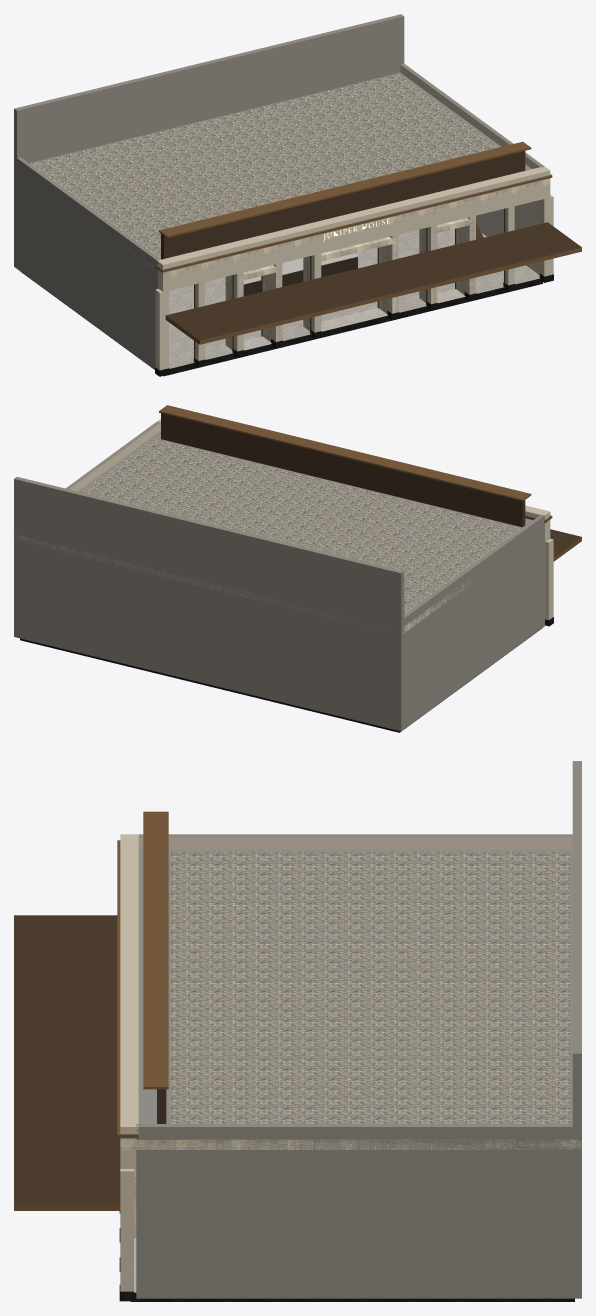
Rendered from juniper_house_LOD2.fbx.
3 views of the same model, one above another, from view 1: azimuth 30°, elevation 25°; view 2: azimuth 150°, elevation 25°; view 3: azimuth 270°, elevation 25° (orthographic). The views are drawn at different scales.
Parts seen in each view (by area): view 1: B02_LOD2_BUILDING_EXTERIOR_Stone, B02_LOD2_BUILDING_EXTERIOR_Roof, B02_LOD2_BUILDING_EXTERIOR_RearInterface, B02_LOD2_FACADE_DETAILS_Bronze, B02_LOD2_BUILDING_INTERIOR_GroundSlab, B02_LOD2_DISPLAY_OBJECTS_Bar; view 2: B02_LOD2_BUILDING_EXTERIOR_Stone, B02_LOD2_BUILDING_EXTERIOR_RearInterface, B02_LOD2_BUILDING_EXTERIOR_Roof, B02_LOD2_FACADE_DETAILS_Bronze, B02_LOD2_BUILDING_INTERIOR_GroundSlab; view 3: B02_LOD2_BUILDING_EXTERIOR_Roof, B02_LOD2_BUILDING_EXTERIOR_Stone, B02_LOD2_FACADE_DETAILS_Bronze, B02_LOD2_BUILDING_EXTERIOR_RearInterface, B02_LOD2_BUILDING_INTERIOR_GroundSlab.
Boxes of the visible parts, x1,y1,x2,y2 form: B02_LOD2_BUILDING_EXTERIOR_Stone: [14, 63, 553, 376]; B02_LOD2_BUILDING_EXTERIOR_Roof: [14, 72, 550, 279]; B02_LOD2_BUILDING_EXTERIOR_RearInterface: [14, 14, 404, 268]; B02_LOD2_FACADE_DETAILS_Bronze: [155, 141, 581, 344]; B02_LOD2_BUILDING_INTERIOR_GroundSlab: [20, 229, 542, 376]; B02_LOD2_DISPLAY_OBJECTS_Bar: [243, 253, 358, 296]; B02_LOD2_BUILDING_EXTERIOR_Stone: [14, 413, 553, 731]; B02_LOD2_BUILDING_EXTERIOR_RearInterface: [14, 477, 404, 729]; B02_LOD2_BUILDING_EXTERIOR_Roof: [14, 430, 532, 633]; B02_LOD2_FACADE_DETAILS_Bronze: [159, 405, 581, 561]; B02_LOD2_BUILDING_INTERIOR_GroundSlab: [20, 628, 542, 732]; B02_LOD2_BUILDING_EXTERIOR_Roof: [120, 849, 581, 1149]; B02_LOD2_BUILDING_EXTERIOR_Stone: [119, 834, 581, 1301]; B02_LOD2_FACADE_DETAILS_Bronze: [14, 811, 168, 1210]; B02_LOD2_BUILDING_EXTERIOR_RearInterface: [572, 761, 581, 1228]; B02_LOD2_BUILDING_INTERIOR_GroundSlab: [130, 1238, 574, 1301].
Size of the model in its own units: 30.56 by 24.6 by 12.
